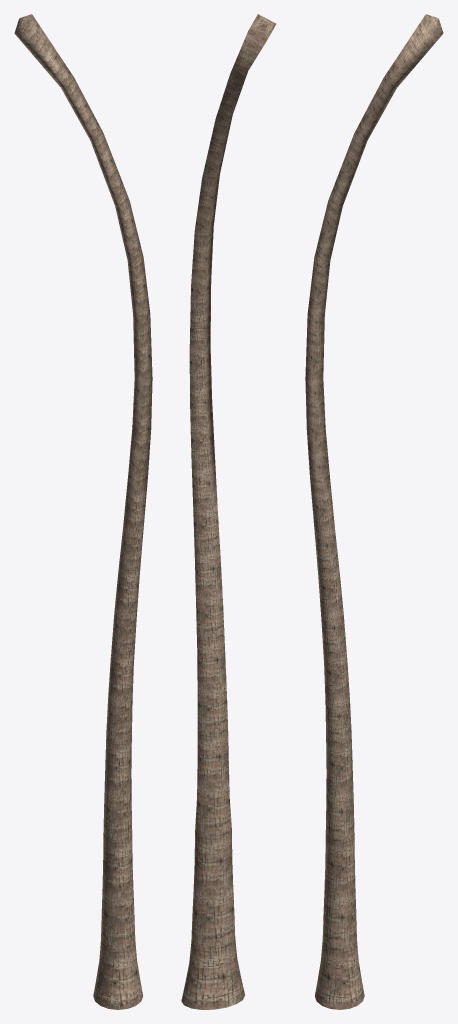
File: m_palm_p2_15_trunk_0.glb
The picture shows the model from 3 angles, left to right: view 1: azimuth 90°, elevation 25°; view 2: azimuth 210°, elevation 25°; view 3: azimuth 270°, elevation 25°; orthographic projection. The views are drawn at different scales.
Visible parts, largest first — view 1: M_Palm_P2_15_Trunk_0; view 2: M_Palm_P2_15_Trunk_0; view 3: M_Palm_P2_15_Trunk_0.
Part boxes in pixels (left/top/right/bottom): M_Palm_P2_15_Trunk_0: left=14, top=14, right=152, bottom=1009; M_Palm_P2_15_Trunk_0: left=181, top=14, right=276, bottom=1009; M_Palm_P2_15_Trunk_0: left=305, top=14, right=443, bottom=1009.
Bounding box in the file's own units: 0.4433 × 7.38 × 0.94.
1 material, 1 textured.
